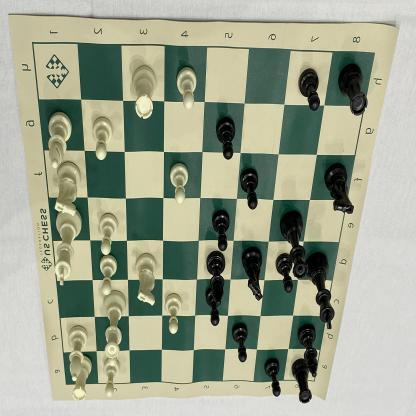black-bishop: (295, 322, 318, 376)
black-king: (306, 250, 335, 335)
black-knight: (322, 166, 355, 217), (238, 250, 262, 308), (201, 247, 227, 300)
black-pawn: (299, 70, 322, 116), (238, 166, 260, 214), (209, 204, 231, 251), (216, 121, 240, 164), (229, 323, 249, 363), (275, 252, 293, 294), (204, 289, 222, 327), (264, 357, 282, 395)
black-queen: (280, 206, 310, 271)
black-rook: (338, 62, 368, 122), (288, 360, 310, 401)
white-bishop: (42, 112, 71, 172), (64, 316, 92, 378)
white-king: (52, 209, 81, 284)
white-knight: (51, 160, 80, 220), (132, 250, 158, 310)
white-pawn: (96, 212, 122, 265), (170, 67, 196, 116), (101, 253, 125, 304), (169, 162, 193, 207), (101, 353, 123, 396), (93, 117, 114, 161), (163, 290, 182, 335), (106, 327, 122, 365)
white-queen: (100, 302, 129, 355)
white-rook: (130, 62, 160, 122), (66, 342, 94, 404)
